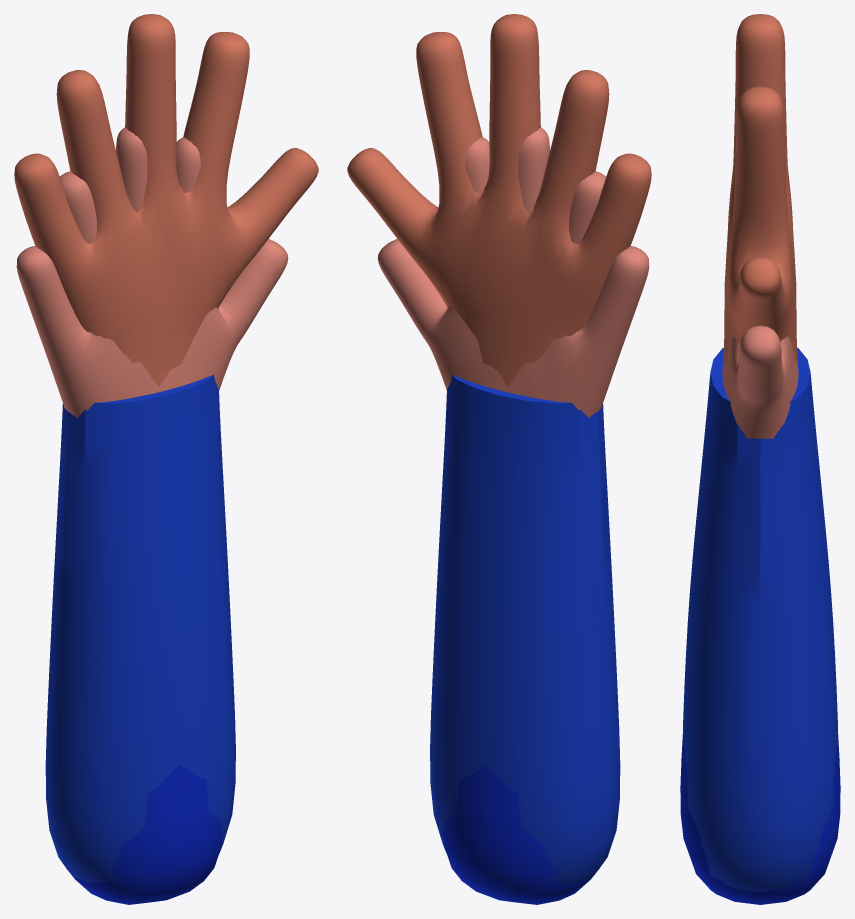
File: mano.obj
The picture shows the model from 3 angles, left to right: view 1: azimuth 30°, elevation 25°; view 2: azimuth 150°, elevation 25°; view 3: azimuth 270°, elevation 25°; orthographic projection.
Visible parts, largest first — view 1: ropa_1_Cube.001, Mano_1_Cube, Mano_2_Cube.002, ropa_2_Cube.003; view 2: ropa_1_Cube.001, Mano_1_Cube, Mano_2_Cube.002, ropa_2_Cube.003; view 3: ropa_1_Cube.001, Mano_1_Cube, Mano_2_Cube.002, ropa_2_Cube.003.
Part boxes in pixels (<box>): ropa_1_Cube.001: <box>45,374,235,882</box>; Mano_1_Cube: <box>14,14,318,386</box>; Mano_2_Cube.002: <box>16,127,288,417</box>; ropa_2_Cube.003: <box>68,764,222,904</box>; ropa_1_Cube.001: <box>430,374,620,882</box>; Mano_1_Cube: <box>347,14,651,386</box>; Mano_2_Cube.002: <box>377,127,649,417</box>; ropa_2_Cube.003: <box>443,764,597,904</box>; ropa_1_Cube.001: <box>683,347,837,891</box>; Mano_1_Cube: <box>723,14,797,367</box>; Mano_2_Cube.002: <box>722,325,798,438</box>; ropa_2_Cube.003: <box>680,734,840,904</box>.
Bounding box in the file's own units: 3.75 × 10.52 × 1.73.
